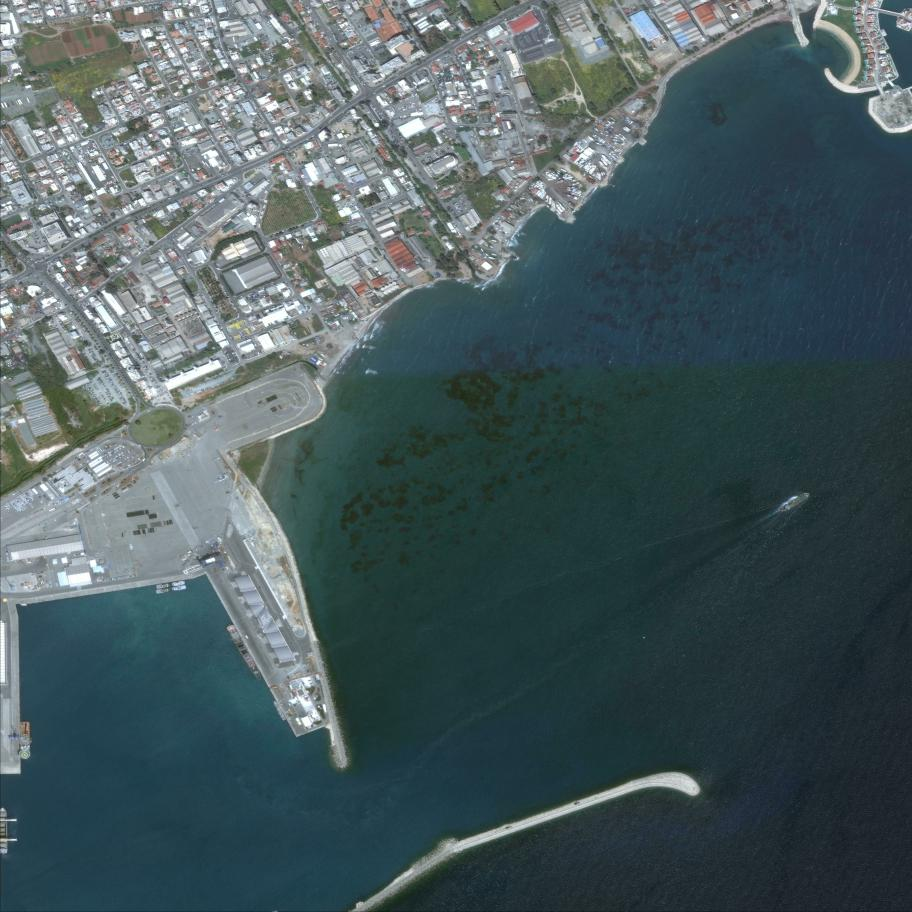large-vehicle: (49, 507, 57, 512), (201, 160, 207, 166), (77, 452, 84, 457), (205, 162, 210, 168), (137, 251, 142, 257), (213, 457, 220, 461), (254, 214, 259, 219), (75, 456, 80, 460), (263, 204, 267, 209), (208, 106, 214, 109), (259, 215, 263, 219), (116, 484, 119, 489), (261, 210, 264, 215), (74, 292, 77, 296), (265, 199, 268, 203), (219, 479, 223, 482), (248, 295, 251, 298), (168, 197, 171, 200), (142, 243, 145, 246), (226, 353, 229, 356), (331, 311, 335, 313), (264, 199, 266, 202), (147, 205, 150, 207), (229, 358, 232, 360), (232, 352, 235, 354), (390, 203, 393, 205), (223, 478, 226, 480)
ship: (224, 622, 265, 685), (19, 722, 31, 761), (271, 699, 287, 723), (543, 170, 558, 181), (601, 153, 612, 165), (557, 200, 567, 213), (171, 579, 187, 587), (597, 160, 608, 171), (156, 587, 171, 595), (565, 193, 579, 201), (600, 158, 610, 168), (555, 203, 564, 214), (589, 164, 598, 175), (156, 582, 170, 589), (537, 187, 546, 197), (172, 585, 187, 591), (583, 161, 592, 170), (619, 134, 628, 143), (570, 187, 578, 196), (622, 125, 631, 133), (586, 135, 595, 143), (540, 190, 547, 200), (575, 159, 586, 165), (495, 226, 504, 233), (492, 219, 500, 226), (487, 255, 496, 261), (556, 179, 566, 184), (552, 171, 559, 178), (579, 147, 586, 154), (606, 119, 613, 126), (609, 116, 617, 122), (545, 194, 550, 203), (548, 196, 553, 205), (535, 189, 541, 196), (628, 120, 635, 126), (586, 165, 593, 171), (560, 168, 568, 173), (572, 181, 580, 186), (564, 176, 574, 180), (598, 171, 602, 181), (578, 191, 584, 197), (538, 184, 544, 190), (534, 184, 540, 190), (556, 209, 562, 215), (552, 200, 556, 209), (490, 239, 499, 243), (573, 141, 579, 147), (579, 163, 585, 169), (600, 171, 605, 178), (508, 207, 514, 212), (529, 197, 534, 203), (80, 157, 85, 163), (627, 119, 633, 124), (612, 155, 618, 160), (613, 153, 619, 158), (482, 252, 488, 257), (616, 147, 622, 152), (584, 139, 589, 145), (562, 173, 569, 177), (521, 197, 528, 201), (612, 145, 617, 150), (485, 252, 490, 257), (539, 186, 544, 191), (625, 117, 630, 122), (608, 128, 613, 133), (615, 148, 620, 153), (599, 138, 604, 143), (579, 141, 584, 146), (592, 171, 596, 177), (567, 186, 575, 189), (570, 179, 578, 182), (62, 150, 66, 156), (86, 149, 90, 155), (605, 124, 611, 128), (613, 136, 619, 140), (547, 178, 554, 181), (613, 142, 620, 145), (596, 142, 603, 145), (556, 171, 561, 175), (545, 174, 550, 178), (519, 211, 524, 215), (458, 231, 462, 236), (489, 245, 494, 249), (602, 170, 606, 175), (91, 170, 95, 175), (106, 181, 110, 186), (104, 187, 108, 192), (625, 116, 629, 121), (545, 175, 550, 179), (535, 180, 540, 184), (595, 127, 599, 132), (551, 172, 556, 176), (614, 149, 618, 154), (610, 125, 615, 129), (578, 163, 583, 167), (379, 186, 383, 191), (594, 135, 599, 139), (621, 142, 626, 146), (608, 142, 612, 147), (578, 183, 582, 188), (580, 145, 584, 150), (604, 125, 609, 129), (612, 139, 618, 142), (562, 176, 568, 179), (491, 253, 497, 256), (614, 134, 620, 137), (501, 215, 505, 219), (65, 152, 69, 156), (604, 130, 608, 134), (606, 145, 610, 149), (539, 182, 543, 186), (534, 184, 538, 188), (585, 169, 589, 173), (627, 118, 631, 122), (590, 159, 594, 163), (578, 191, 582, 195), (480, 248, 484, 252), (584, 145, 588, 149), (577, 144, 581, 148), (588, 159, 592, 163), (599, 131, 603, 135), (598, 138, 602, 142), (601, 139, 605, 143), (602, 140, 606, 144), (578, 145, 582, 149), (611, 120, 615, 124), (567, 174, 572, 177), (583, 172, 586, 177), (79, 158, 82, 163), (69, 161, 74, 164), (547, 177, 552, 180), (537, 182, 542, 185), (565, 151, 570, 154), (584, 162, 589, 165), (609, 153, 614, 156), (411, 93, 414, 98), (20, 604, 27, 606), (554, 175, 558, 178), (67, 155, 70, 159), (557, 170, 561, 173), (580, 195, 584, 198), (558, 177, 562, 180), (485, 244, 489, 247), (406, 104, 410, 107), (593, 135, 597, 138), (577, 191, 580, 195), (85, 152, 88, 156), (596, 136, 600, 139), (605, 134, 609, 137), (91, 149, 94, 153), (594, 141, 600, 143), (597, 137, 601, 140), (79, 150, 83, 153), (415, 92, 418, 96), (404, 114, 407, 118), (398, 107, 402, 110), (88, 158, 92, 161), (610, 157, 613, 161), (30, 738, 32, 744), (582, 168, 585, 172), (566, 189, 571, 191), (568, 179, 573, 181), (580, 159, 585, 161), (104, 184, 107, 187), (105, 183, 108, 186), (127, 158, 130, 161), (110, 181, 113, 184), (108, 182, 111, 185), (109, 181, 112, 184), (528, 199, 531, 202), (591, 165, 594, 168), (604, 143, 607, 146), (608, 145, 611, 148), (575, 191, 578, 194), (402, 108, 405, 111), (92, 149, 95, 152), (93, 149, 96, 152), (597, 176, 599, 180), (58, 155, 62, 157), (62, 150, 64, 154), (618, 134, 622, 136), (584, 160, 588, 162), (410, 102, 414, 104), (111, 177, 115, 179), (595, 175, 597, 178), (112, 180, 114, 183), (83, 155, 85, 158), (409, 106, 411, 109), (80, 152, 83, 154), (402, 106, 405, 108), (413, 106, 415, 109), (592, 134, 594, 137), (61, 158, 63, 161), (400, 107, 403, 109), (93, 145, 96, 147), (91, 163, 94, 165), (91, 166, 94, 168), (403, 115, 405, 118), (89, 161, 92, 163), (65, 152, 67, 154), (619, 153, 621, 155), (597, 172, 598, 176), (608, 155, 610, 157), (94, 146, 96, 148), (405, 108, 407, 110), (113, 179, 116, 180), (89, 160, 92, 161), (111, 176, 113, 177), (114, 181, 116, 182), (412, 106, 413, 108)
small-vehicle: (327, 310, 330, 313)
storage-tank: (374, 123, 380, 128), (315, 118, 319, 121)
